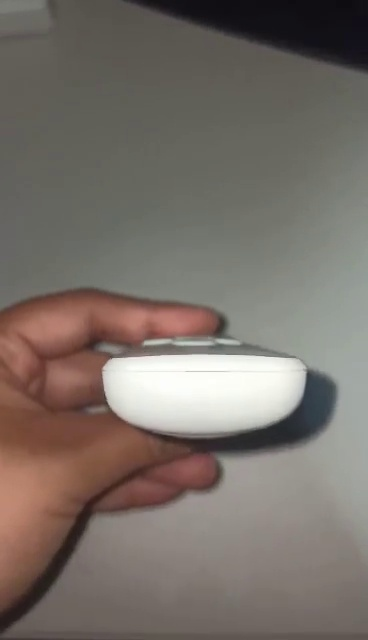remote: (104, 335, 306, 433)
